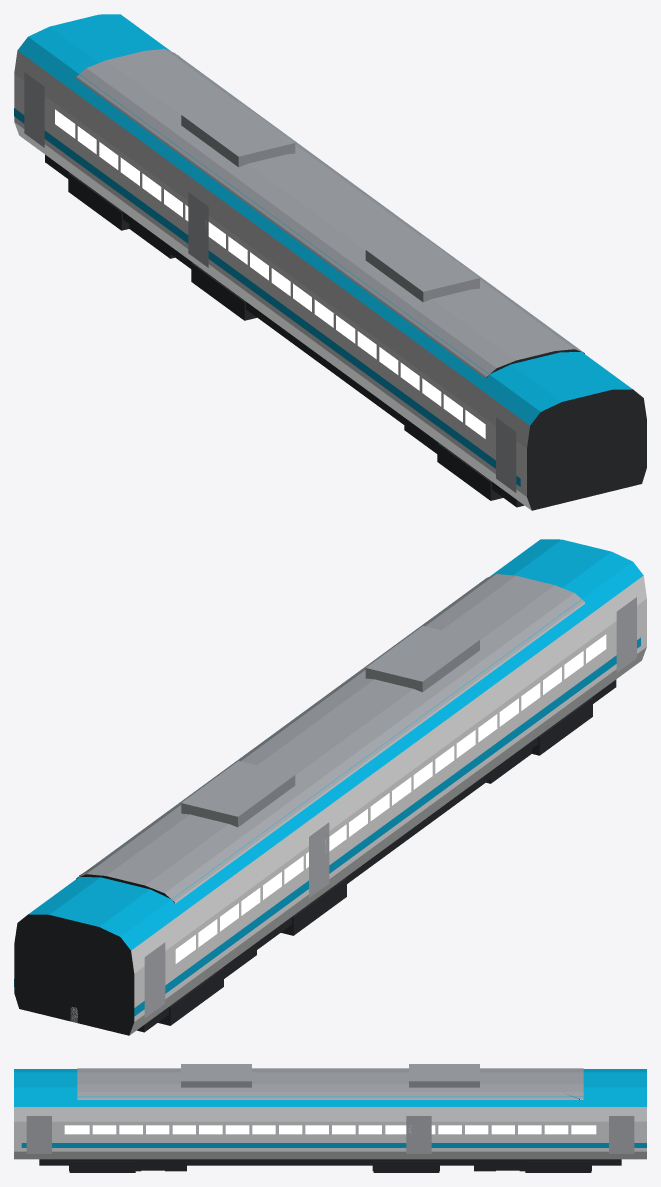
The model's file is other_trains.glb.
The picture shows the model from 3 angles, top to bottom: view 1: azimuth 30°, elevation 25°; view 2: azimuth 150°, elevation 25°; view 3: azimuth 270°, elevation 25°; orthographic projection. The views are drawn at different scales.
Parts seen in each view (by area): view 1: OT_SkLead, OT_SkMiddle, OT_Lead, OT_Middle; view 2: OT_SkMiddle, OT_SkLead, OT_Lead, OT_Middle; view 3: OT_SkLead, OT_SkMiddle, OT_Lead, OT_Middle.
Boxes of the visible parts, x1,y1,x2,y2 form: OT_SkLead: (188, 155, 646, 510); OT_SkMiddle: (14, 14, 632, 507); OT_Lead: (94, 55, 584, 453); OT_Middle: (76, 49, 581, 376); OT_SkMiddle: (14, 539, 646, 1035); OT_SkLead: (70, 539, 646, 1022); OT_Lead: (79, 574, 584, 978); OT_Middle: (76, 574, 584, 903); OT_SkLead: (14, 1069, 439, 1172); OT_SkMiddle: (14, 1069, 646, 1172); OT_Lead: (77, 1064, 579, 1171); OT_Middle: (77, 1068, 583, 1099).
Size of the model in its own units: 3.4 by 3.95 by 25.
